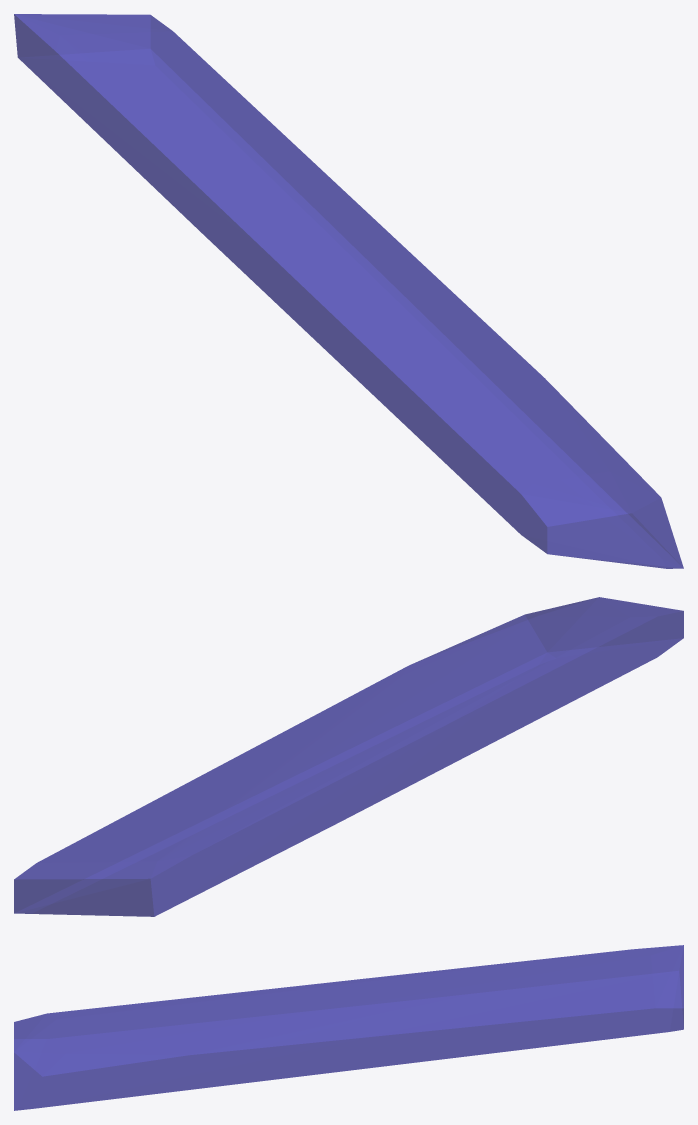
3 renders of one model, top to bottom at view 1: azimuth 30°, elevation 25°; view 2: azimuth 150°, elevation 25°; view 3: azimuth 270°, elevation 25°, orthographic. The views are drawn at different scales.
Visible parts, largest first — view 1: Shape_IndexedFaceSet.013_Shape_IndexedFaceSet.17548; view 2: Shape_IndexedFaceSet.013_Shape_IndexedFaceSet.17548; view 3: Shape_IndexedFaceSet.013_Shape_IndexedFaceSet.17548.
Boxes of the visible parts, x1,y1,x2,y2 form: Shape_IndexedFaceSet.013_Shape_IndexedFaceSet.17548: [14, 14, 683, 568]; Shape_IndexedFaceSet.013_Shape_IndexedFaceSet.17548: [14, 597, 683, 916]; Shape_IndexedFaceSet.013_Shape_IndexedFaceSet.17548: [14, 945, 683, 1110].
Size of the model in its own units: 0.057 by 0.0787 by 0.3856.
